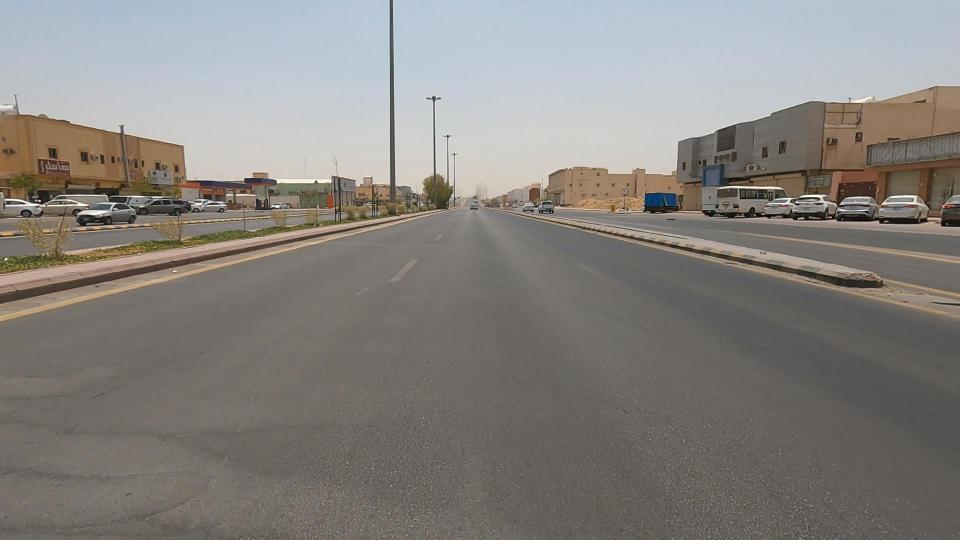BAD_BILLBOARD: (816, 120, 960, 193)
SAND_ON_ROAD: (544, 179, 652, 224)
